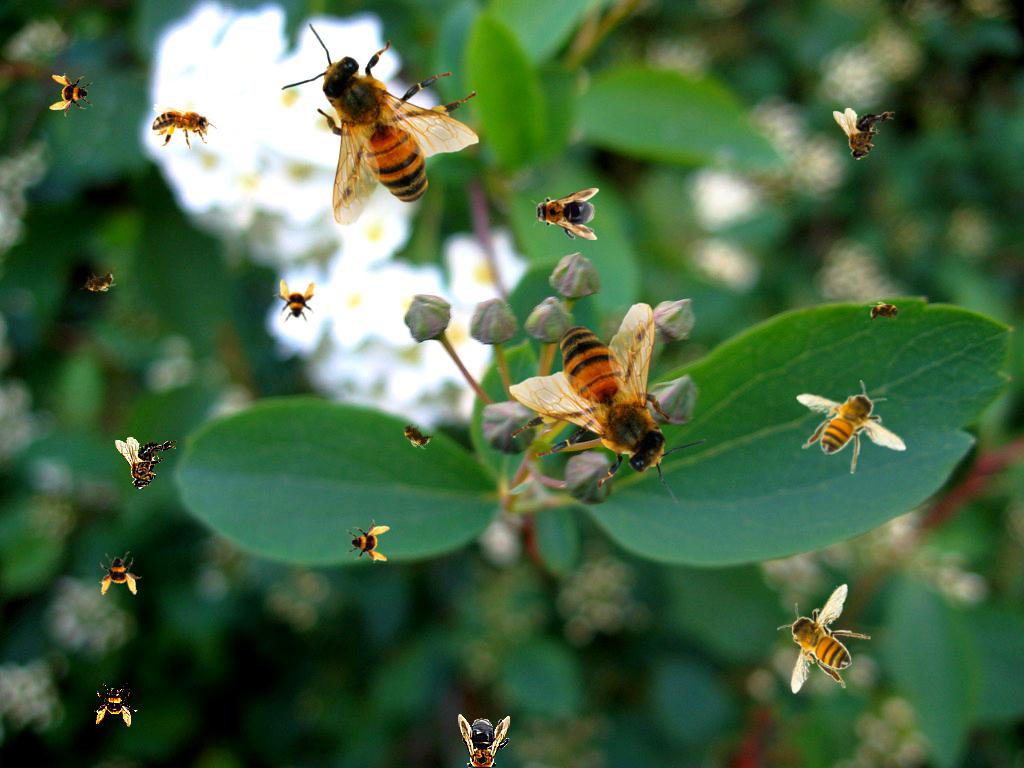Bee: (280, 23, 479, 227), (509, 302, 708, 506), (796, 380, 907, 474), (777, 583, 871, 694), (531, 188, 599, 240), (833, 108, 895, 161), (115, 437, 177, 490), (152, 104, 218, 149), (458, 714, 510, 768), (96, 550, 144, 598), (94, 683, 138, 727), (273, 279, 317, 323), (346, 519, 390, 563), (49, 73, 93, 117), (393, 414, 439, 456), (77, 266, 121, 298), (865, 301, 905, 323)
